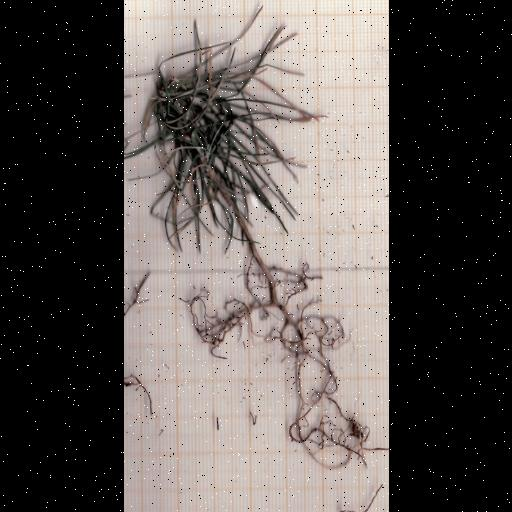flowerCedr: (124, 7, 322, 250)
rootCedr: (187, 257, 388, 469)
stemCedr: (232, 204, 265, 269)
